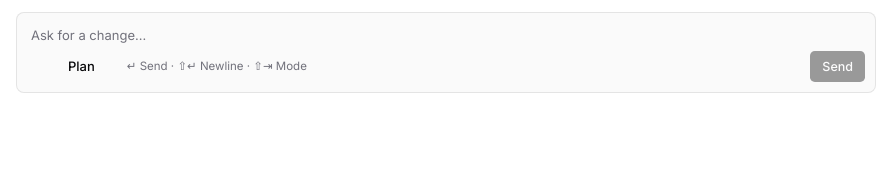
Test: Composer › only offers Plan and Bypass for OpenCode
Click the button with aria-label "Permission mode": (90, 67) [60, 56, 121, 78]
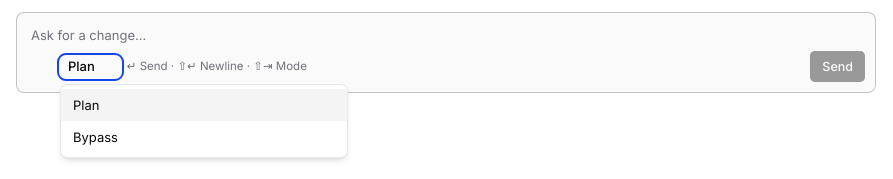
Check: the option "Plan" is shown, box [61, 89, 347, 121]
Check: the option "Bypass" is shown, box [61, 121, 347, 153]
